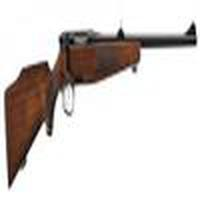gun: (2, 28, 199, 176)
